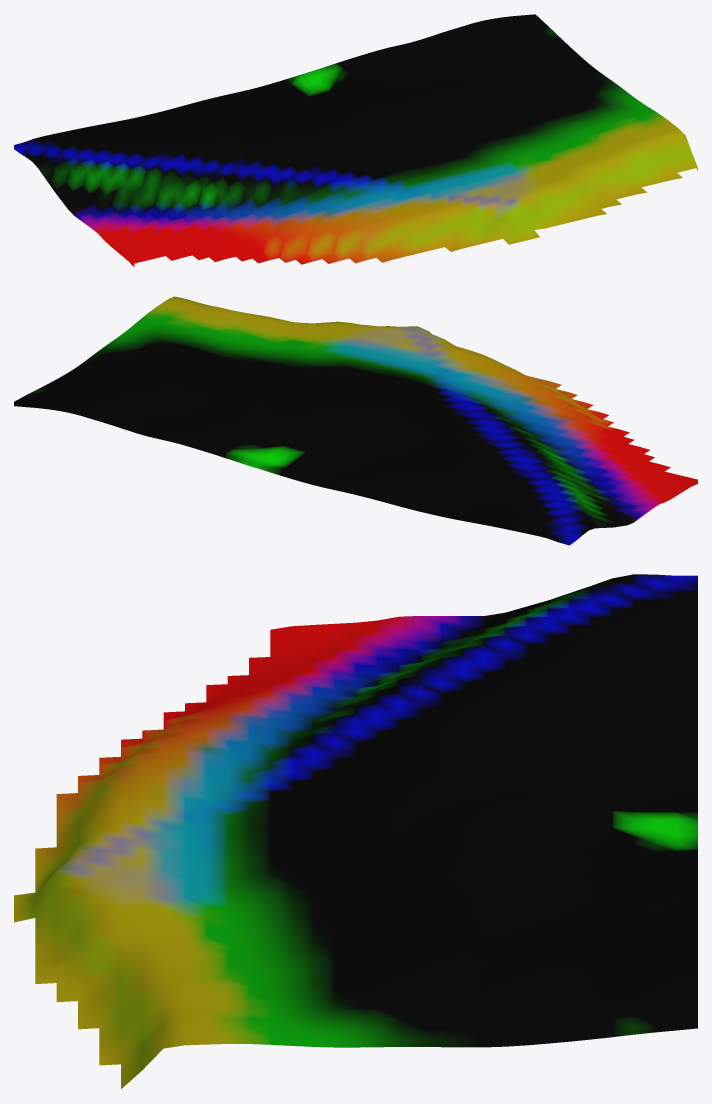
Rendered from coast_13_14.glb.
The picture shows the model from 3 angles, top to bottom: view 1: azimuth 30°, elevation 25°; view 2: azimuth 150°, elevation 25°; view 3: azimuth 270°, elevation 25°; orthographic projection. The views are drawn at different scales.
Parts seen in each view (by area): view 1: terrain; view 2: terrain; view 3: terrain.
Boxes of the visible parts, box(x1,y1,x2,y2) form: terrain: box(14, 14, 697, 266); terrain: box(14, 296, 697, 545); terrain: box(14, 574, 697, 1088).
Size of the model in its own units: 200 by 16.47 by 128.
